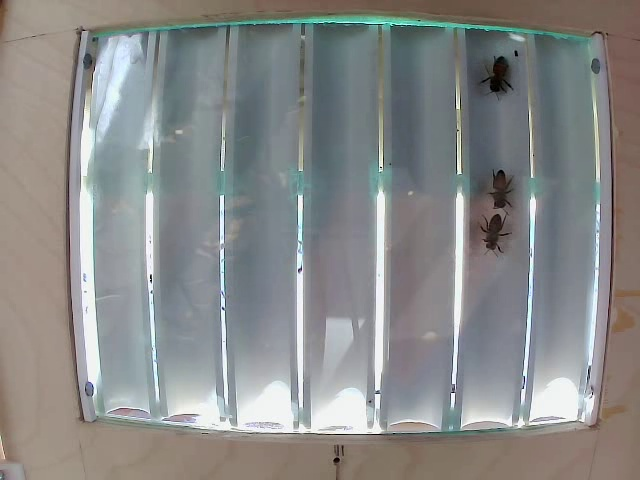bee: (479, 210, 517, 257), (483, 57, 524, 99), (488, 173, 512, 207)
